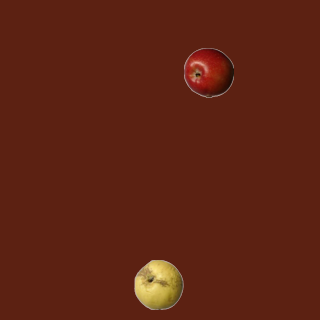Apple Braeburn: (183, 47, 233, 97)
Apple Golden 1: (133, 259, 183, 309)
